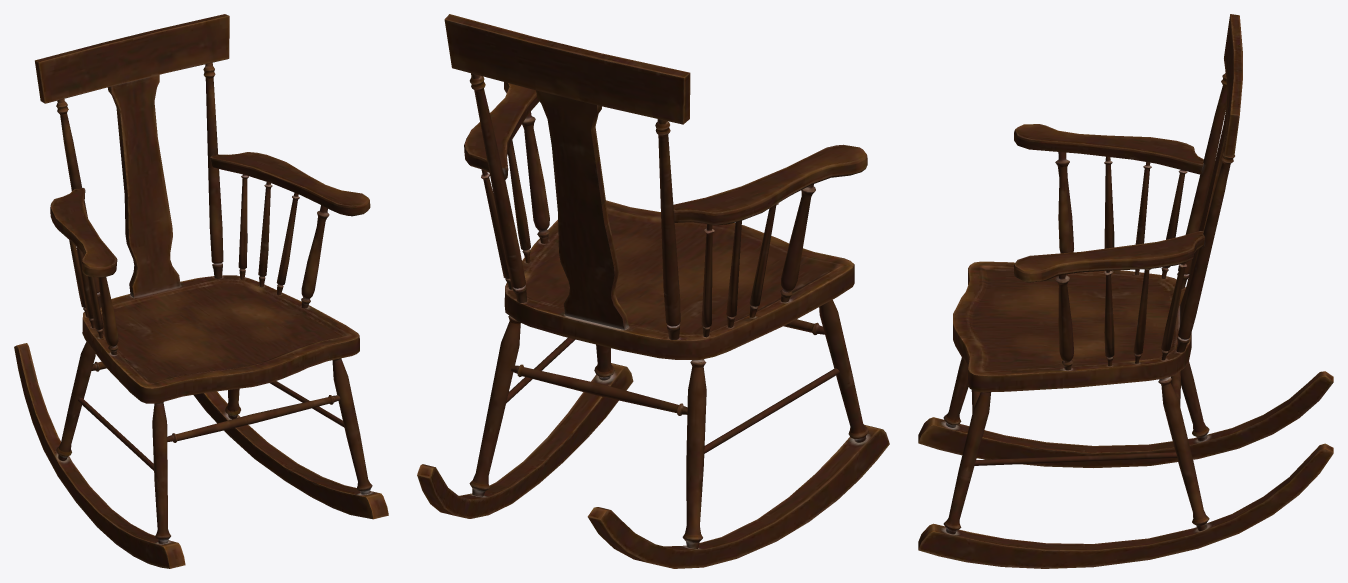
The model's file is rockingchair_01.glb.
3 views of the same model, side by side, from view 1: azimuth 30°, elevation 25°; view 2: azimuth 150°, elevation 25°; view 3: azimuth 270°, elevation 25° (orthographic). The views are drawn at different scales.
Visible parts, largest first — view 1: Rockingchair_01; view 2: Rockingchair_01; view 3: Rockingchair_01.
Part boxes in pixels (x1,y1,x2,y2): Rockingchair_01: (14, 14, 388, 568); Rockingchair_01: (417, 14, 889, 568); Rockingchair_01: (918, 14, 1333, 568).
Size of the model in its own units: 0.7081 by 0.9949 by 0.8335.
Materials: 1 (1 with a texture image).
